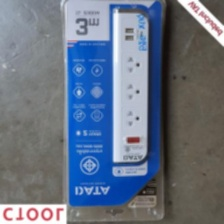book: (64, 0, 162, 209)
three_eye_plug: (107, 4, 151, 168)
